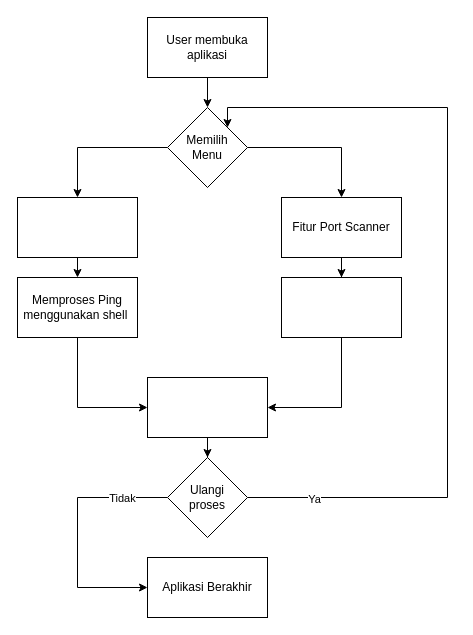
This 473x635 diagram has some shape labels left out. Here are the shapes that lost their labels. From the top down, the centre of each, then its label:
point (77, 227): Fitur Pinger
point (341, 307): Memproses Scanner menggunakan Socket
point (207, 407): Proses selesai
